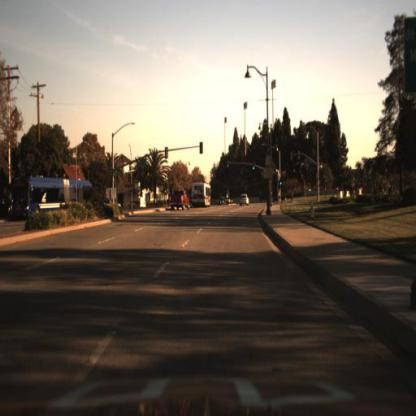car: (167, 188, 192, 217), (192, 181, 214, 211), (240, 189, 252, 207), (238, 194, 253, 208)
pedestrian: (279, 191, 283, 206)
truck: (9, 174, 117, 221), (191, 184, 215, 210)
